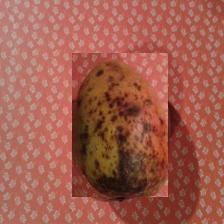Mango Rotten: (72, 53, 168, 197)
